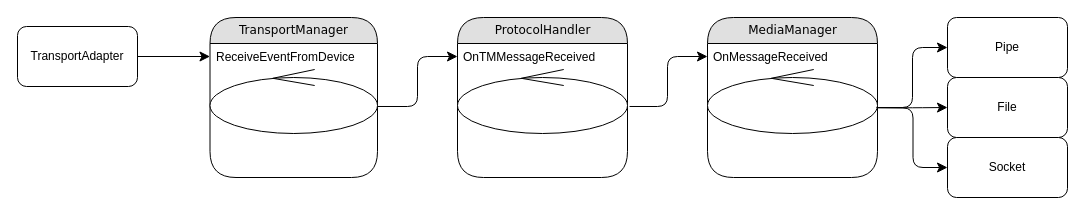
Some shapes in this 1085 by 215 pixel diagram are drawn without their labels. Here are the shapes that lost their labels. From the top down, the centre of each, then its label:
At [293,101]: "TM in queue".
At [542,101]: "PH in queue".
At [792,101]: "MM in queue".
